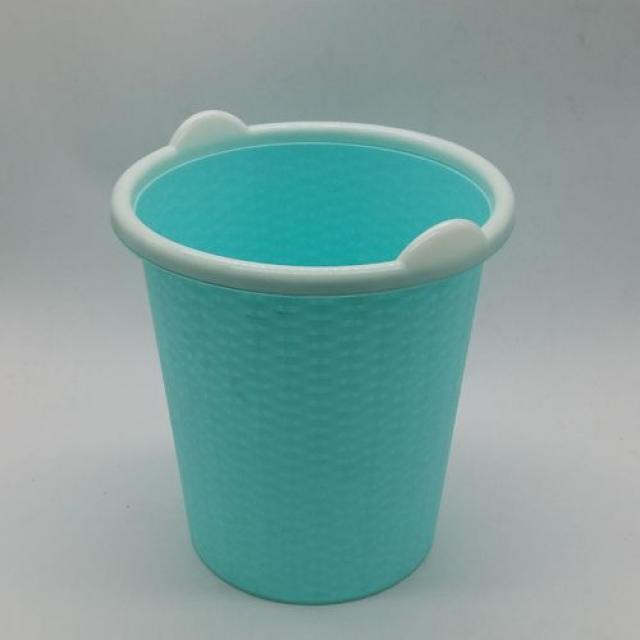Dustbin: (106, 104, 520, 608)
